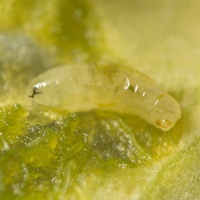insect: (28, 64, 180, 130)
